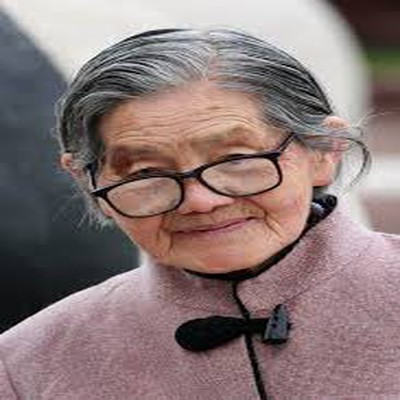eywear: (72, 128, 324, 225)
